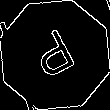P_SE: (27, 24, 83, 86)
